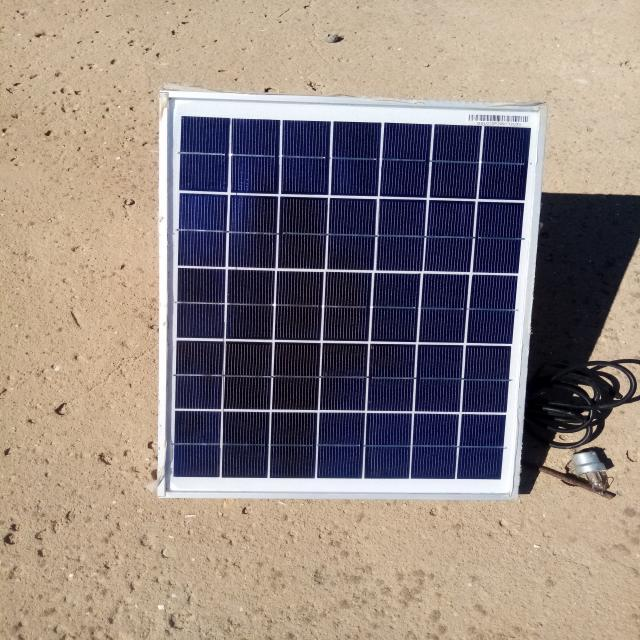no faulty: (160, 94, 546, 497)
